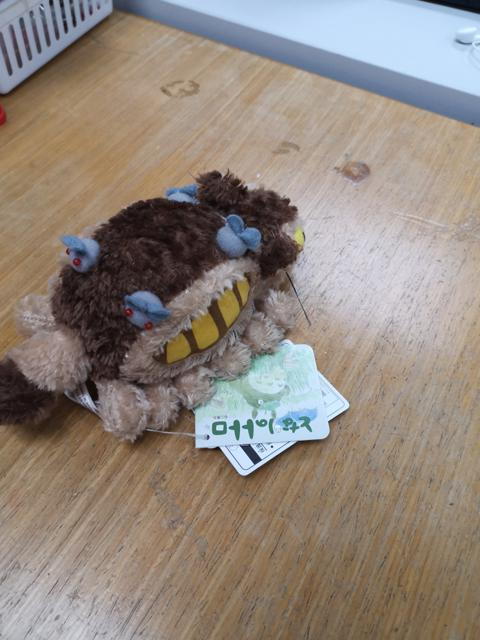nekobus: (2, 163, 317, 451)
